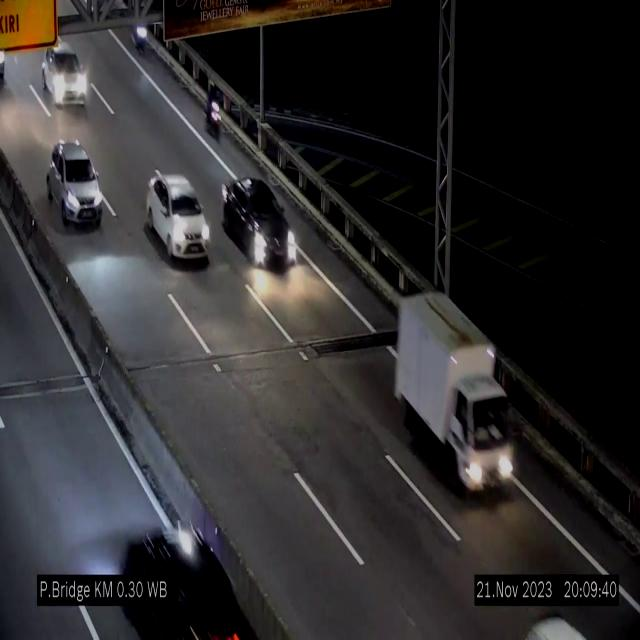Car: (124, 498, 244, 640), (221, 171, 301, 279), (145, 174, 211, 260), (47, 141, 103, 226), (30, 35, 90, 113)
Motorcycle: (130, 10, 152, 57), (204, 82, 221, 140)
Truck: (394, 294, 524, 494)
